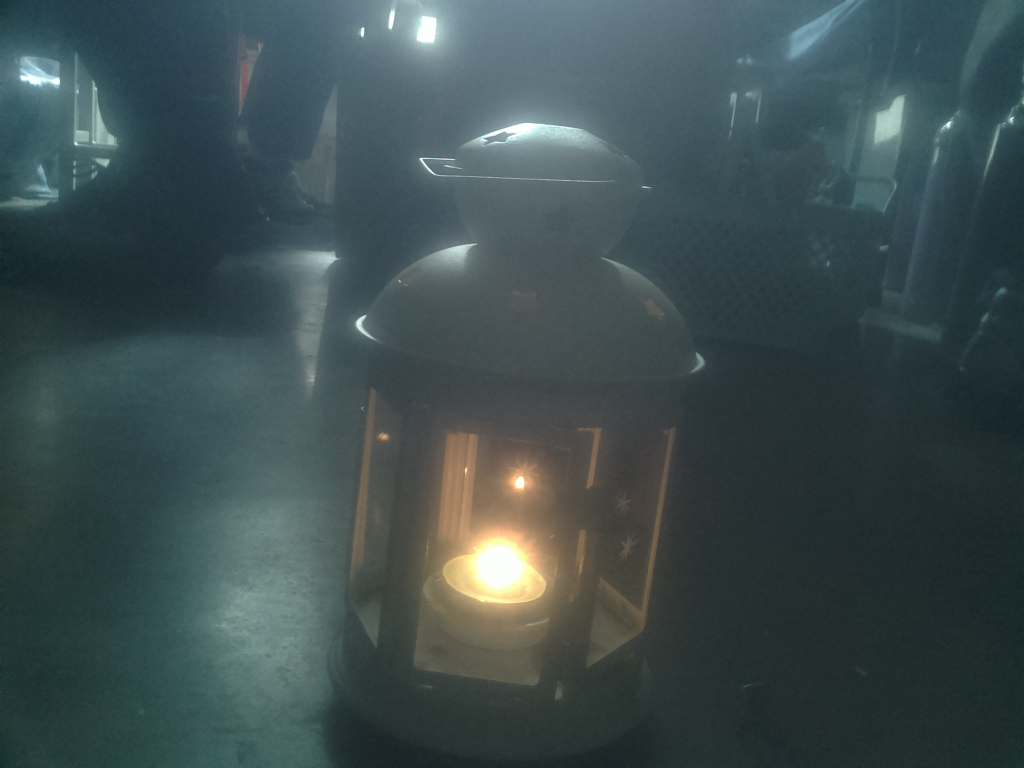fire: (439, 522, 550, 625)
